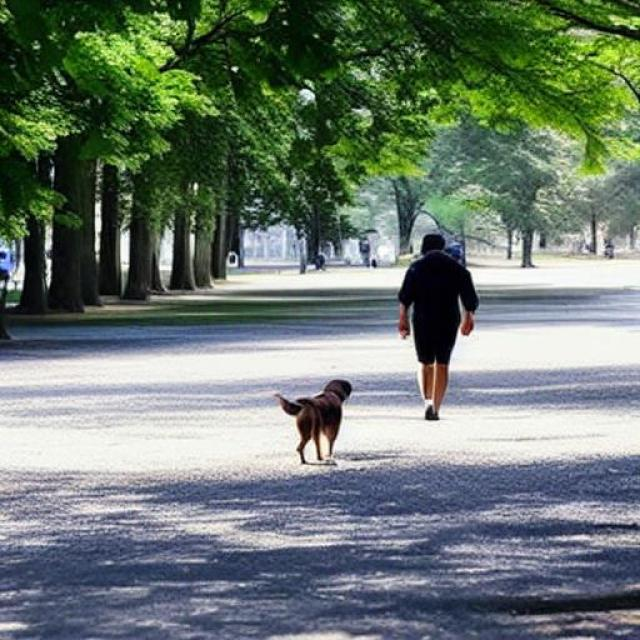Unleashed_Dog: (274, 310, 458, 466)
